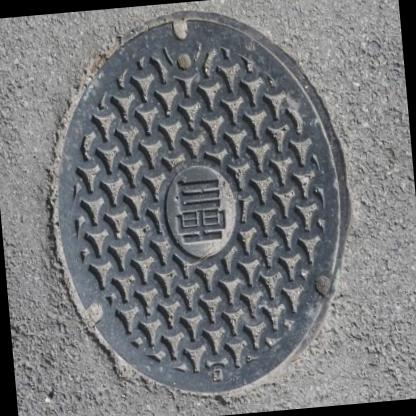manholes: (15, 0, 386, 416)
